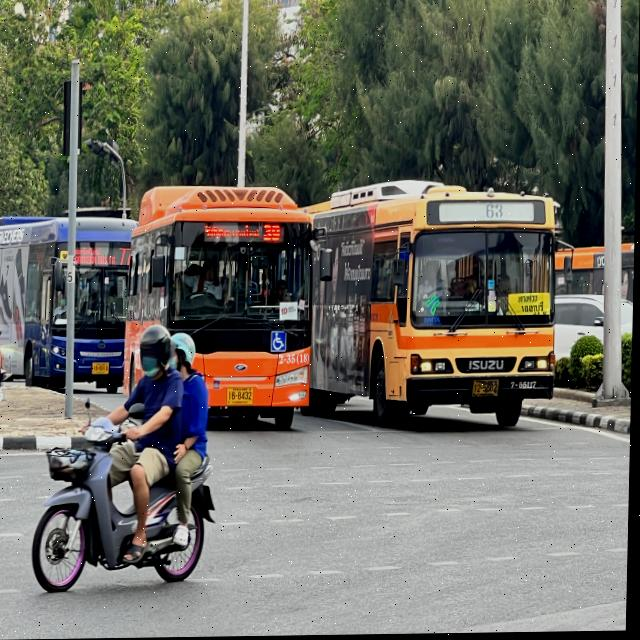BMTA-bus: (307, 180, 564, 434)
Bus-Line-Number: (482, 201, 509, 223), (264, 224, 283, 244), (119, 247, 133, 268)
Destination-Sign-Normal: (204, 224, 262, 245), (76, 244, 119, 268)
Destination-Sign-Normal-Expressway: (509, 295, 552, 318)
TSB-Bus: (128, 186, 316, 432), (0, 208, 135, 394)
